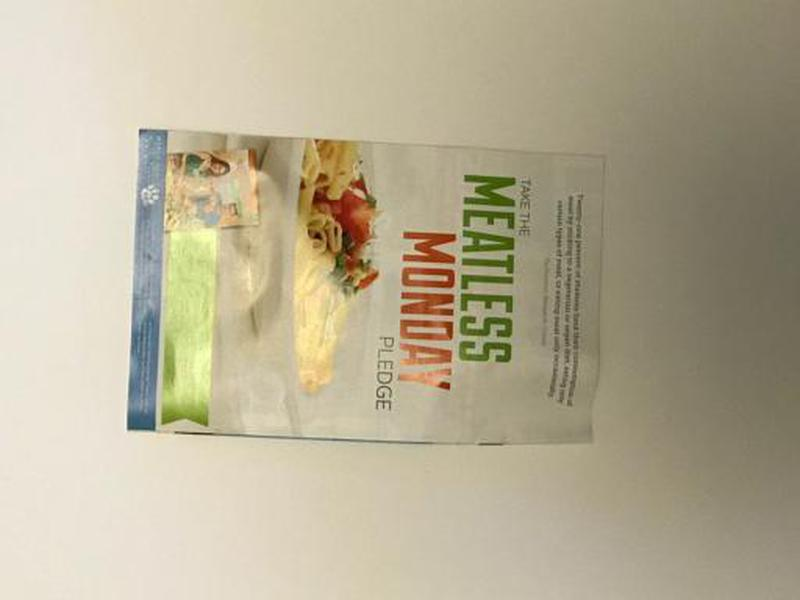paper: (124, 124, 612, 454)
